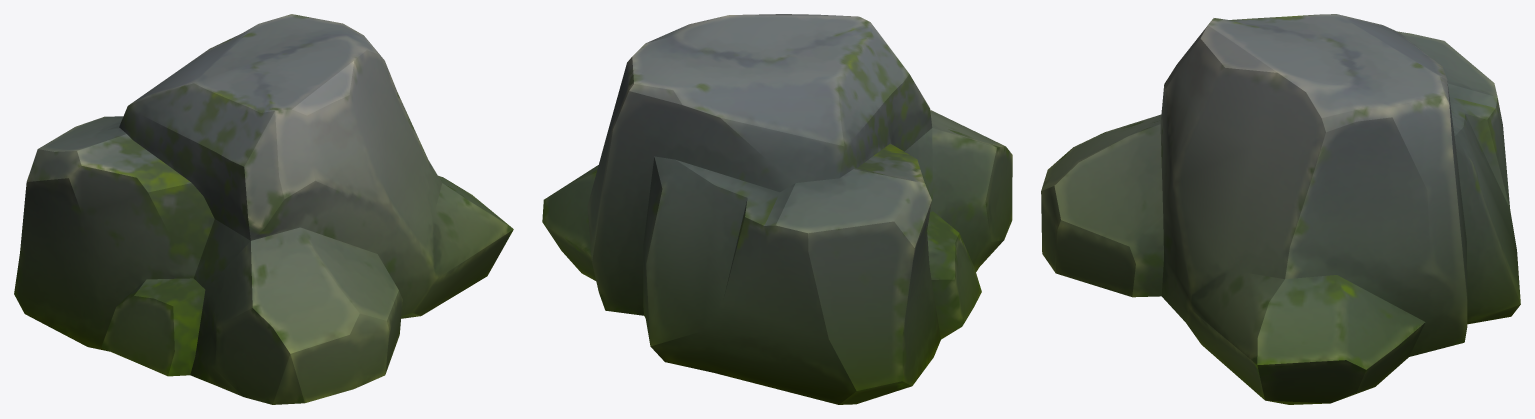
Rendered from Rock_Medium_4.gltf.
The picture shows the model from 3 angles, left to right: view 1: azimuth 30°, elevation 25°; view 2: azimuth 150°, elevation 25°; view 3: azimuth 270°, elevation 25°; orthographic projection. The views are drawn at different scales.
Visible parts, largest first — view 1: Rock_Medium_4; view 2: Rock_Medium_4; view 3: Rock_Medium_4.
Part boxes in pixels (x1,y1,x2,y2): Rock_Medium_4: (14,14,513,404); Rock_Medium_4: (542,14,1012,404); Rock_Medium_4: (1041,14,1520,404).
Bounding box in the file's own units: 3.78 × 2.48 × 3.61.
1 material, 1 textured.
